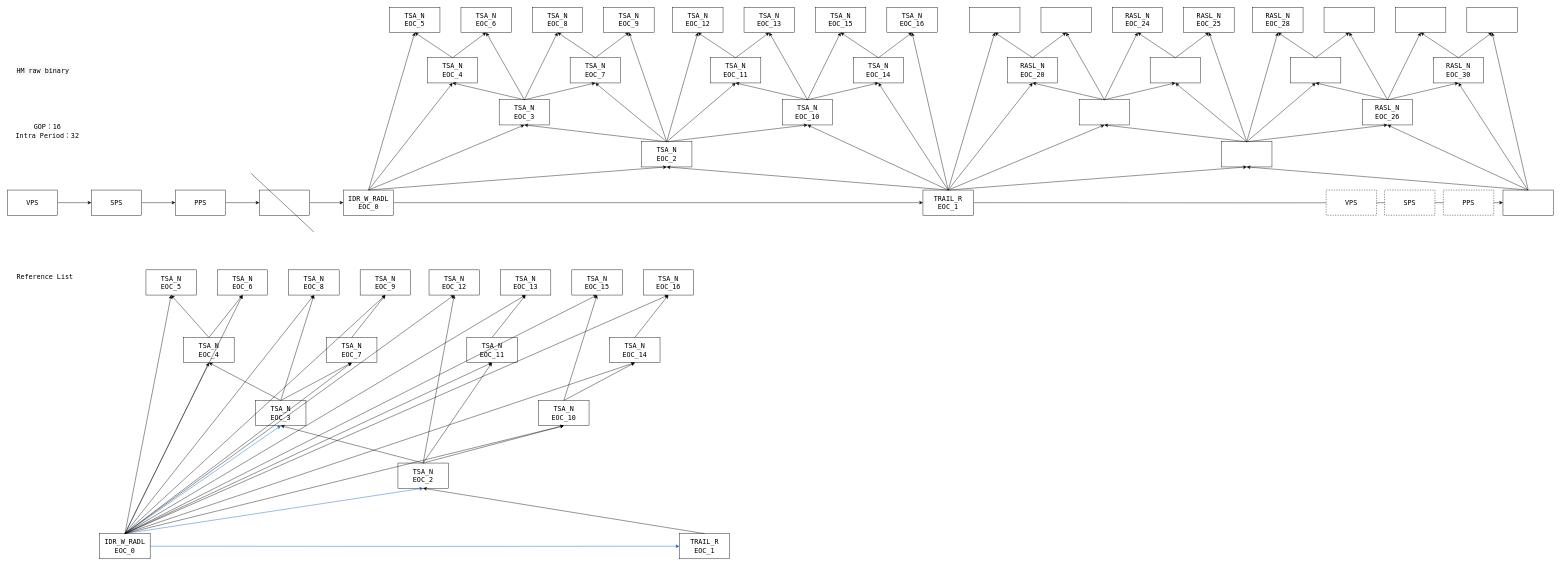
This 1561x566 diagram has some shape labels left out. Here are the shapes that lost their labels. From the top down, the centre of each, then its label:
At [994,20]: "RASL_N EOC_21".
At [1066,20]: "RASL_N EOC_22".
At [1349,20]: "RASL_N EOC_29".
At [1420,20]: "RASL_N EOC_31".
At [1491,20]: "RASL_N EOC_32".
At [1175,70]: "RASL_N EOC_23".
At [1315,70]: "RASL_N EOC_27".
At [1104,112]: "RASL_N EOC_19".
At [1246,154]: "RASL_N EOC_18".
At [284,202]: "SEI".
At [1528,202]: "CRA EOC_17".
